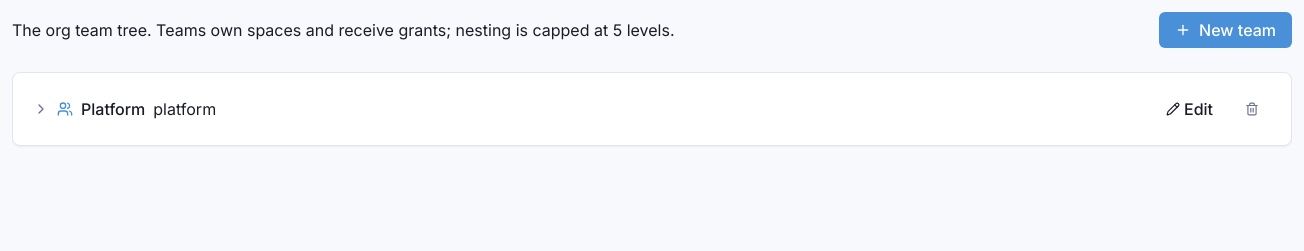
TeamsAdminPage — the optional ticket reference (A3) › reveals the reference field only while confirming a delete, and sends it
Click the button with test id "team-delete-button" at (1252, 109), box [1233,93,1271,125]
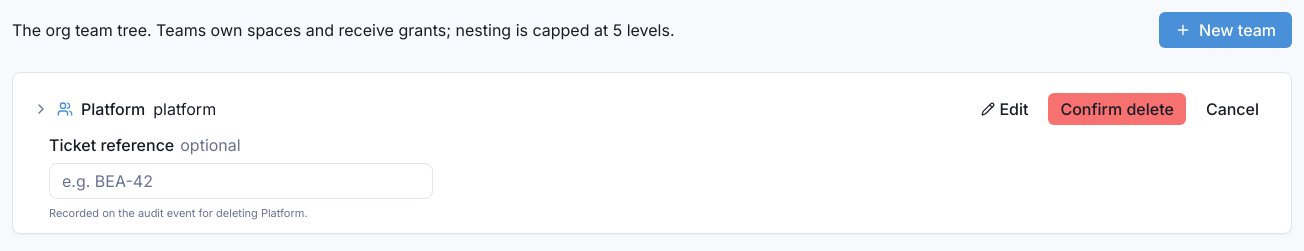
Now the dropdown with test id "team-delete-ticket-ref" is shown
Now the button with test id "team-delete-confirm" is enabled, box [1048,93,1186,125]
Type "ORG-9" into the dropdown with test id "team-delete-ticket-ref" at (241, 181), box [49,163,433,199]
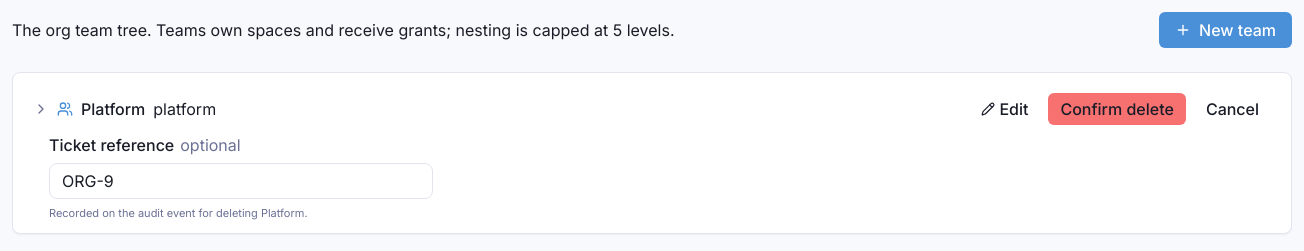
Click the button with test id "team-delete-confirm" at (1117, 109), box [1048,93,1186,125]
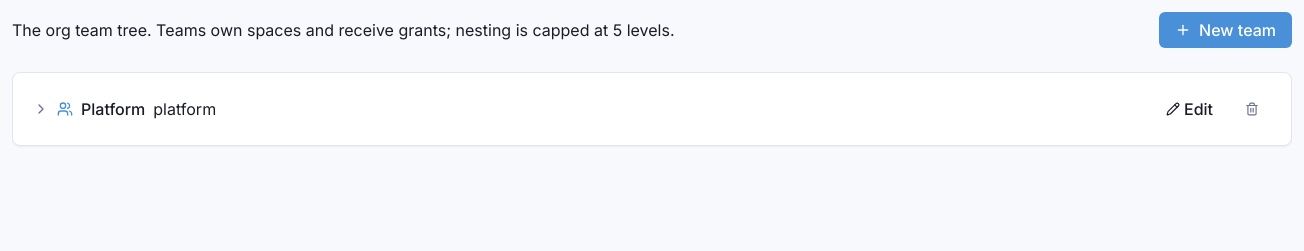
Now the dropdown with test id "team-delete-ticket-ref" is gone
